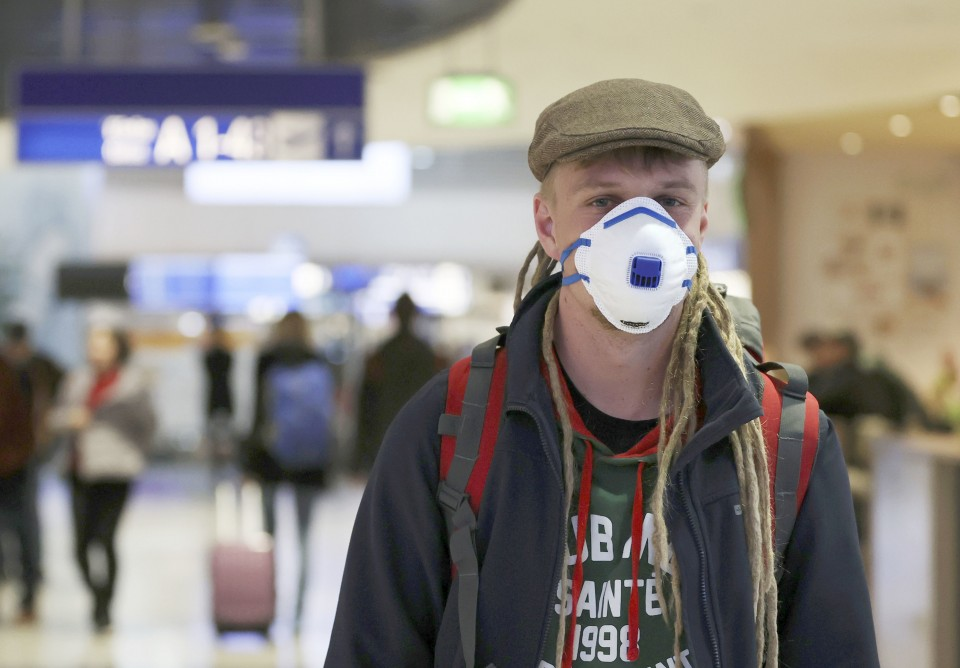n95: (563, 192, 703, 337)
